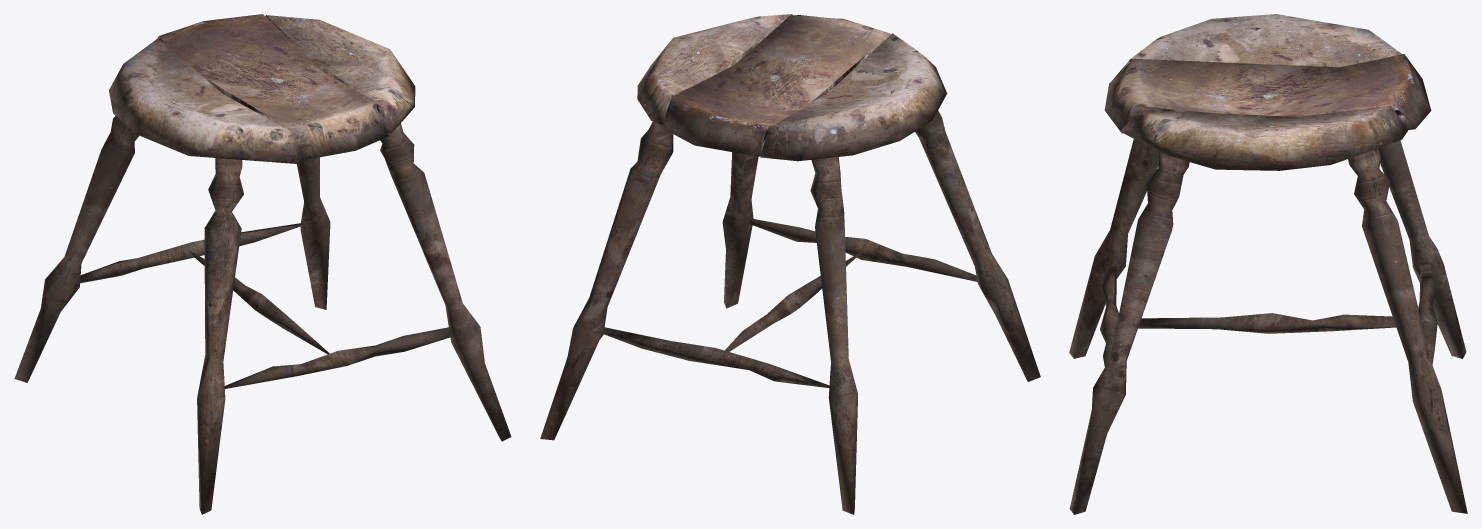
File: wooden_stool_01.fbx
3 renders of one model, left to right at view 1: azimuth 30°, elevation 25°; view 2: azimuth 150°, elevation 25°; view 3: azimuth 270°, elevation 25°, orthographic. The views are drawn at different scales.
Visible parts, largest first — view 1: wooden_stool_01; view 2: wooden_stool_01; view 3: wooden_stool_01.
Boxes of the visible parts, left/top/right/bottom form: wooden_stool_01: left=14, top=14, right=511, bottom=514; wooden_stool_01: left=540, top=14, right=1040, bottom=514; wooden_stool_01: left=1069, top=14, right=1467, bottom=514.
Size of the model in its own units: 42.43 by 43.73 by 43.88.
1 material, 1 textured.
